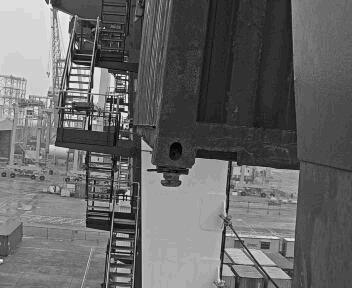twist_lock_1: (161, 163, 204, 194)
